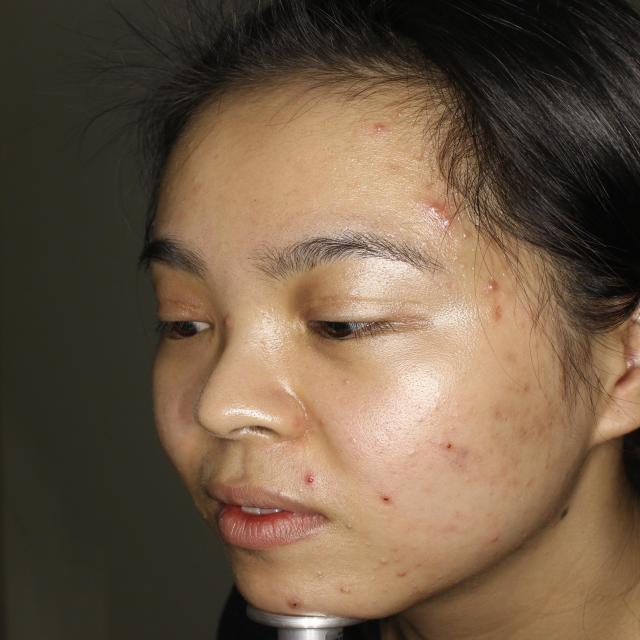acne: (436, 433, 466, 464), (376, 486, 399, 516), (284, 590, 306, 620), (483, 275, 509, 298), (483, 299, 503, 327), (426, 198, 445, 223), (297, 474, 324, 487), (438, 215, 456, 234), (372, 119, 393, 133)
